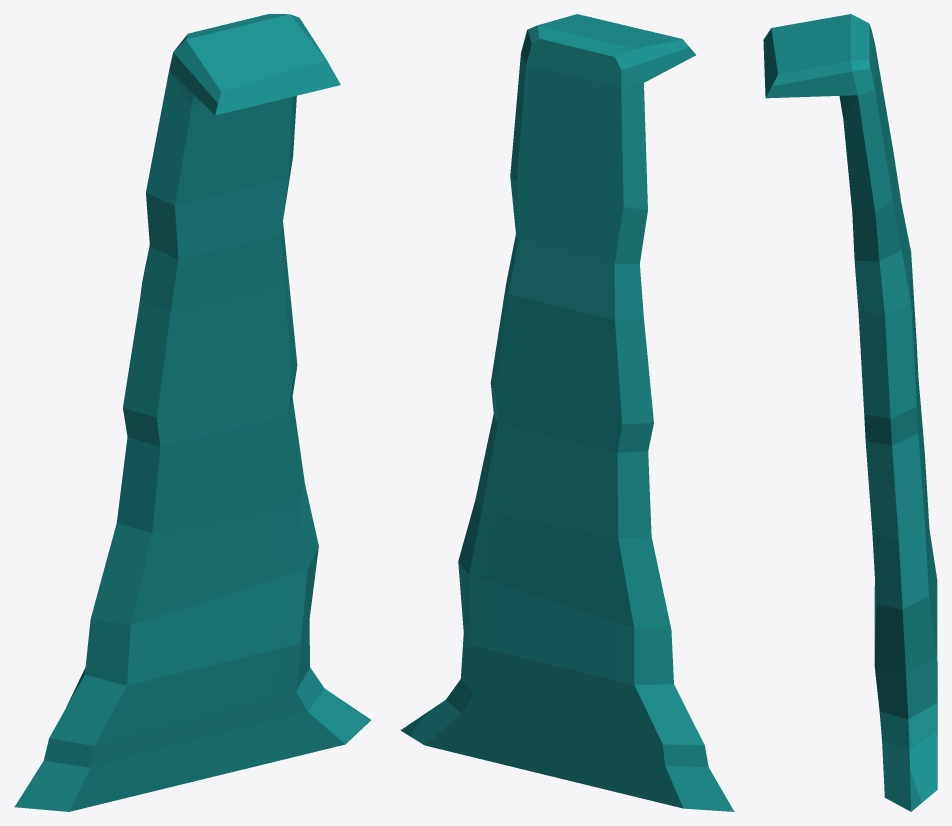
The model's file is CascadaAnimada_000008.obj.
The picture shows the model from 3 angles, left to right: view 1: azimuth 30°, elevation 25°; view 2: azimuth 150°, elevation 25°; view 3: azimuth 270°, elevation 25°; orthographic projection. The views are drawn at different scales.
Parts seen in each view (by area): view 1: Cube.053, Cube.054; view 2: Cube.053, Cube.054; view 3: Cube.053, Cube.054.
Boxes of the visible parts, <box> form: Cube.053: <box>14,14,370,811</box>; Cube.054: <box>169,14,340,115</box>; Cube.053: <box>400,25,734,811</box>; Cube.054: <box>538,14,695,82</box>; Cube.053: <box>839,14,937,811</box>; Cube.054: <box>763,14,857,98</box>.
Bounding box in the file's own units: 136 × 277 × 62.23.
